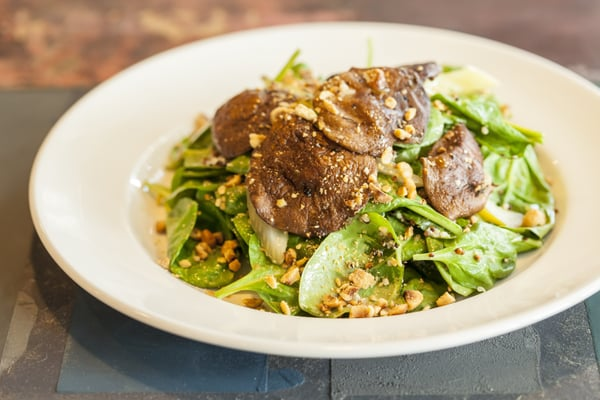sushi: (26, 25, 590, 360)
